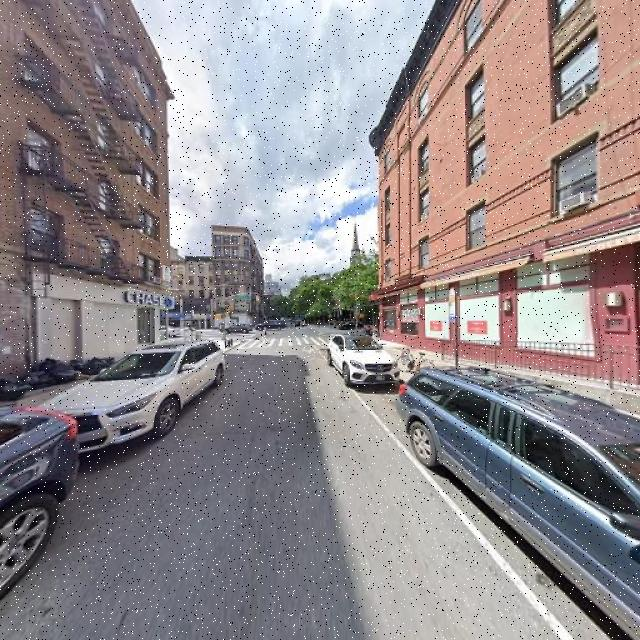Building: (380, 1, 640, 395), (1, 1, 173, 390)
